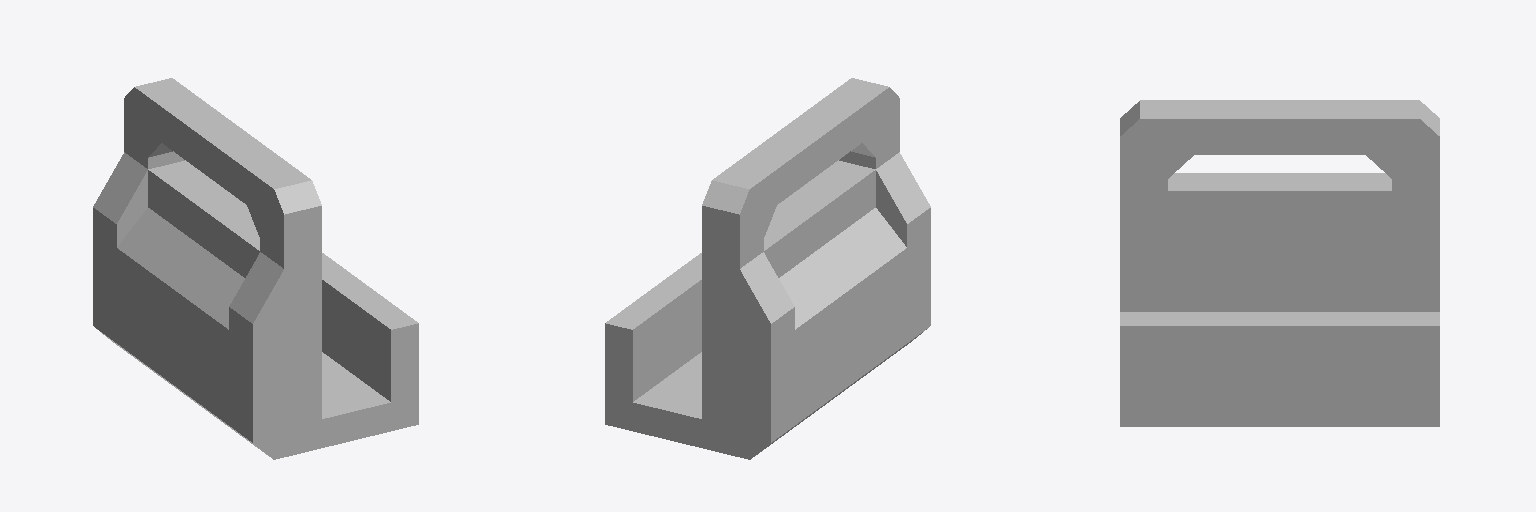
File: obs0L.obj
The picture shows the model from 3 angles: view 1: azimuth 30°, elevation 25°; view 2: azimuth 150°, elevation 25°; view 3: azimuth 270°, elevation 25°; orthographic projection.
Visible parts, largest first — view 1: ob0_Plane.004; view 2: ob0_Plane.004; view 3: ob0_Plane.004.
Part boxes in pixels (x1,y1,x2,y2): ob0_Plane.004: (93, 78, 418, 459); ob0_Plane.004: (605, 78, 930, 459); ob0_Plane.004: (1120, 100, 1439, 426).
Bounding box in the file's own units: 1.2 × 1.8 × 2.